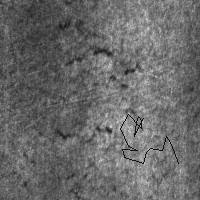crazing: (26, 63, 141, 142), (120, 114, 178, 163), (56, 19, 115, 66)
